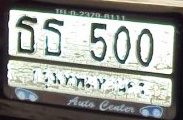txt19: (14, 15, 39, 54), (43, 17, 66, 57)
